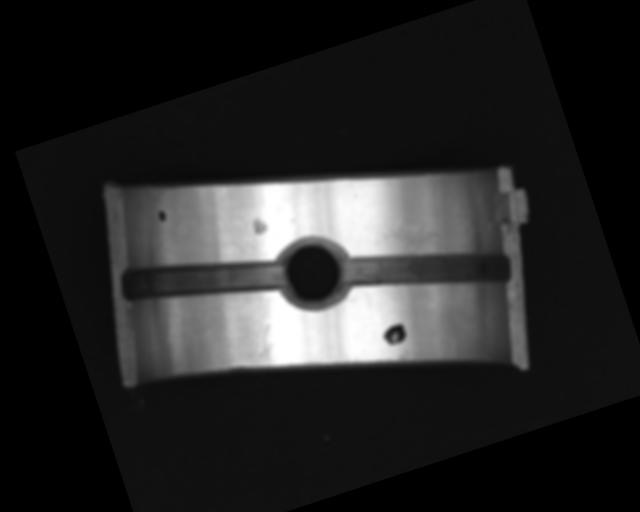blot: (380, 321, 410, 347), (155, 209, 169, 223)
bruise: (250, 214, 268, 237)
gap: (338, 211, 514, 327), (115, 224, 286, 330)
hole: (270, 227, 358, 316)
nick: (250, 322, 282, 367)
scratch: (385, 200, 467, 263)
